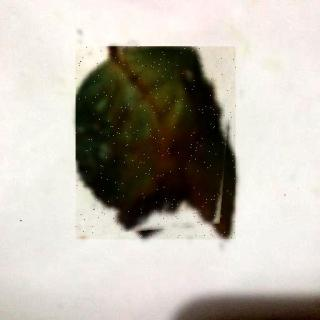Red Leaf Spot: (77, 48, 237, 242)
